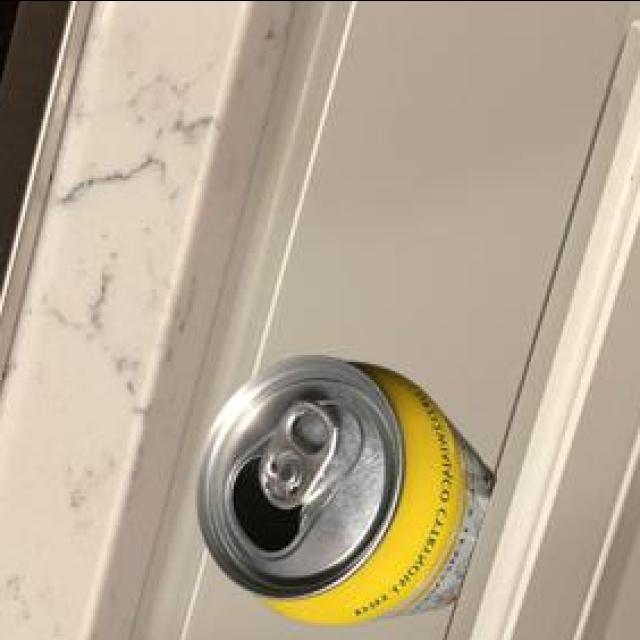logam: (194, 353, 494, 621)
